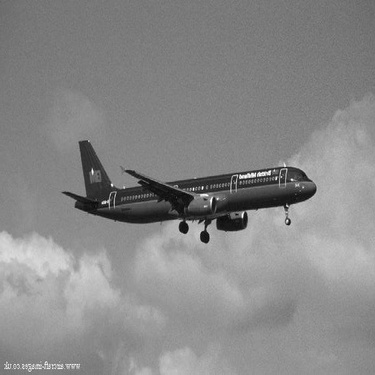airplane: (45, 115, 329, 259)
